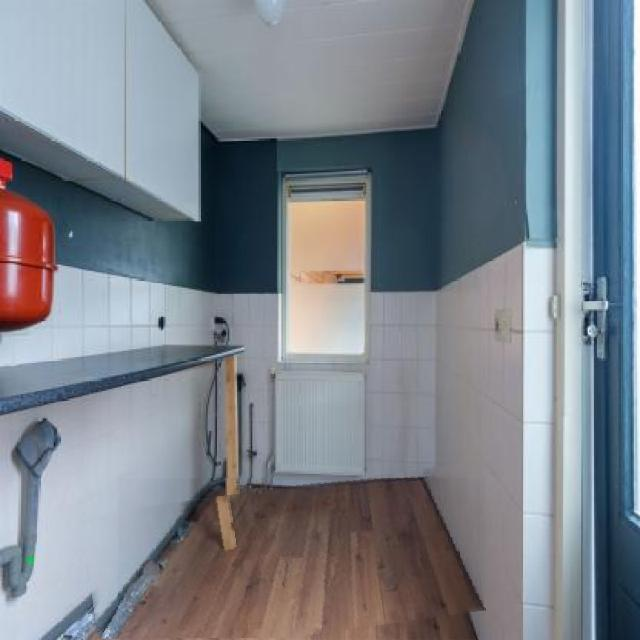floor: (119, 479, 485, 639)
